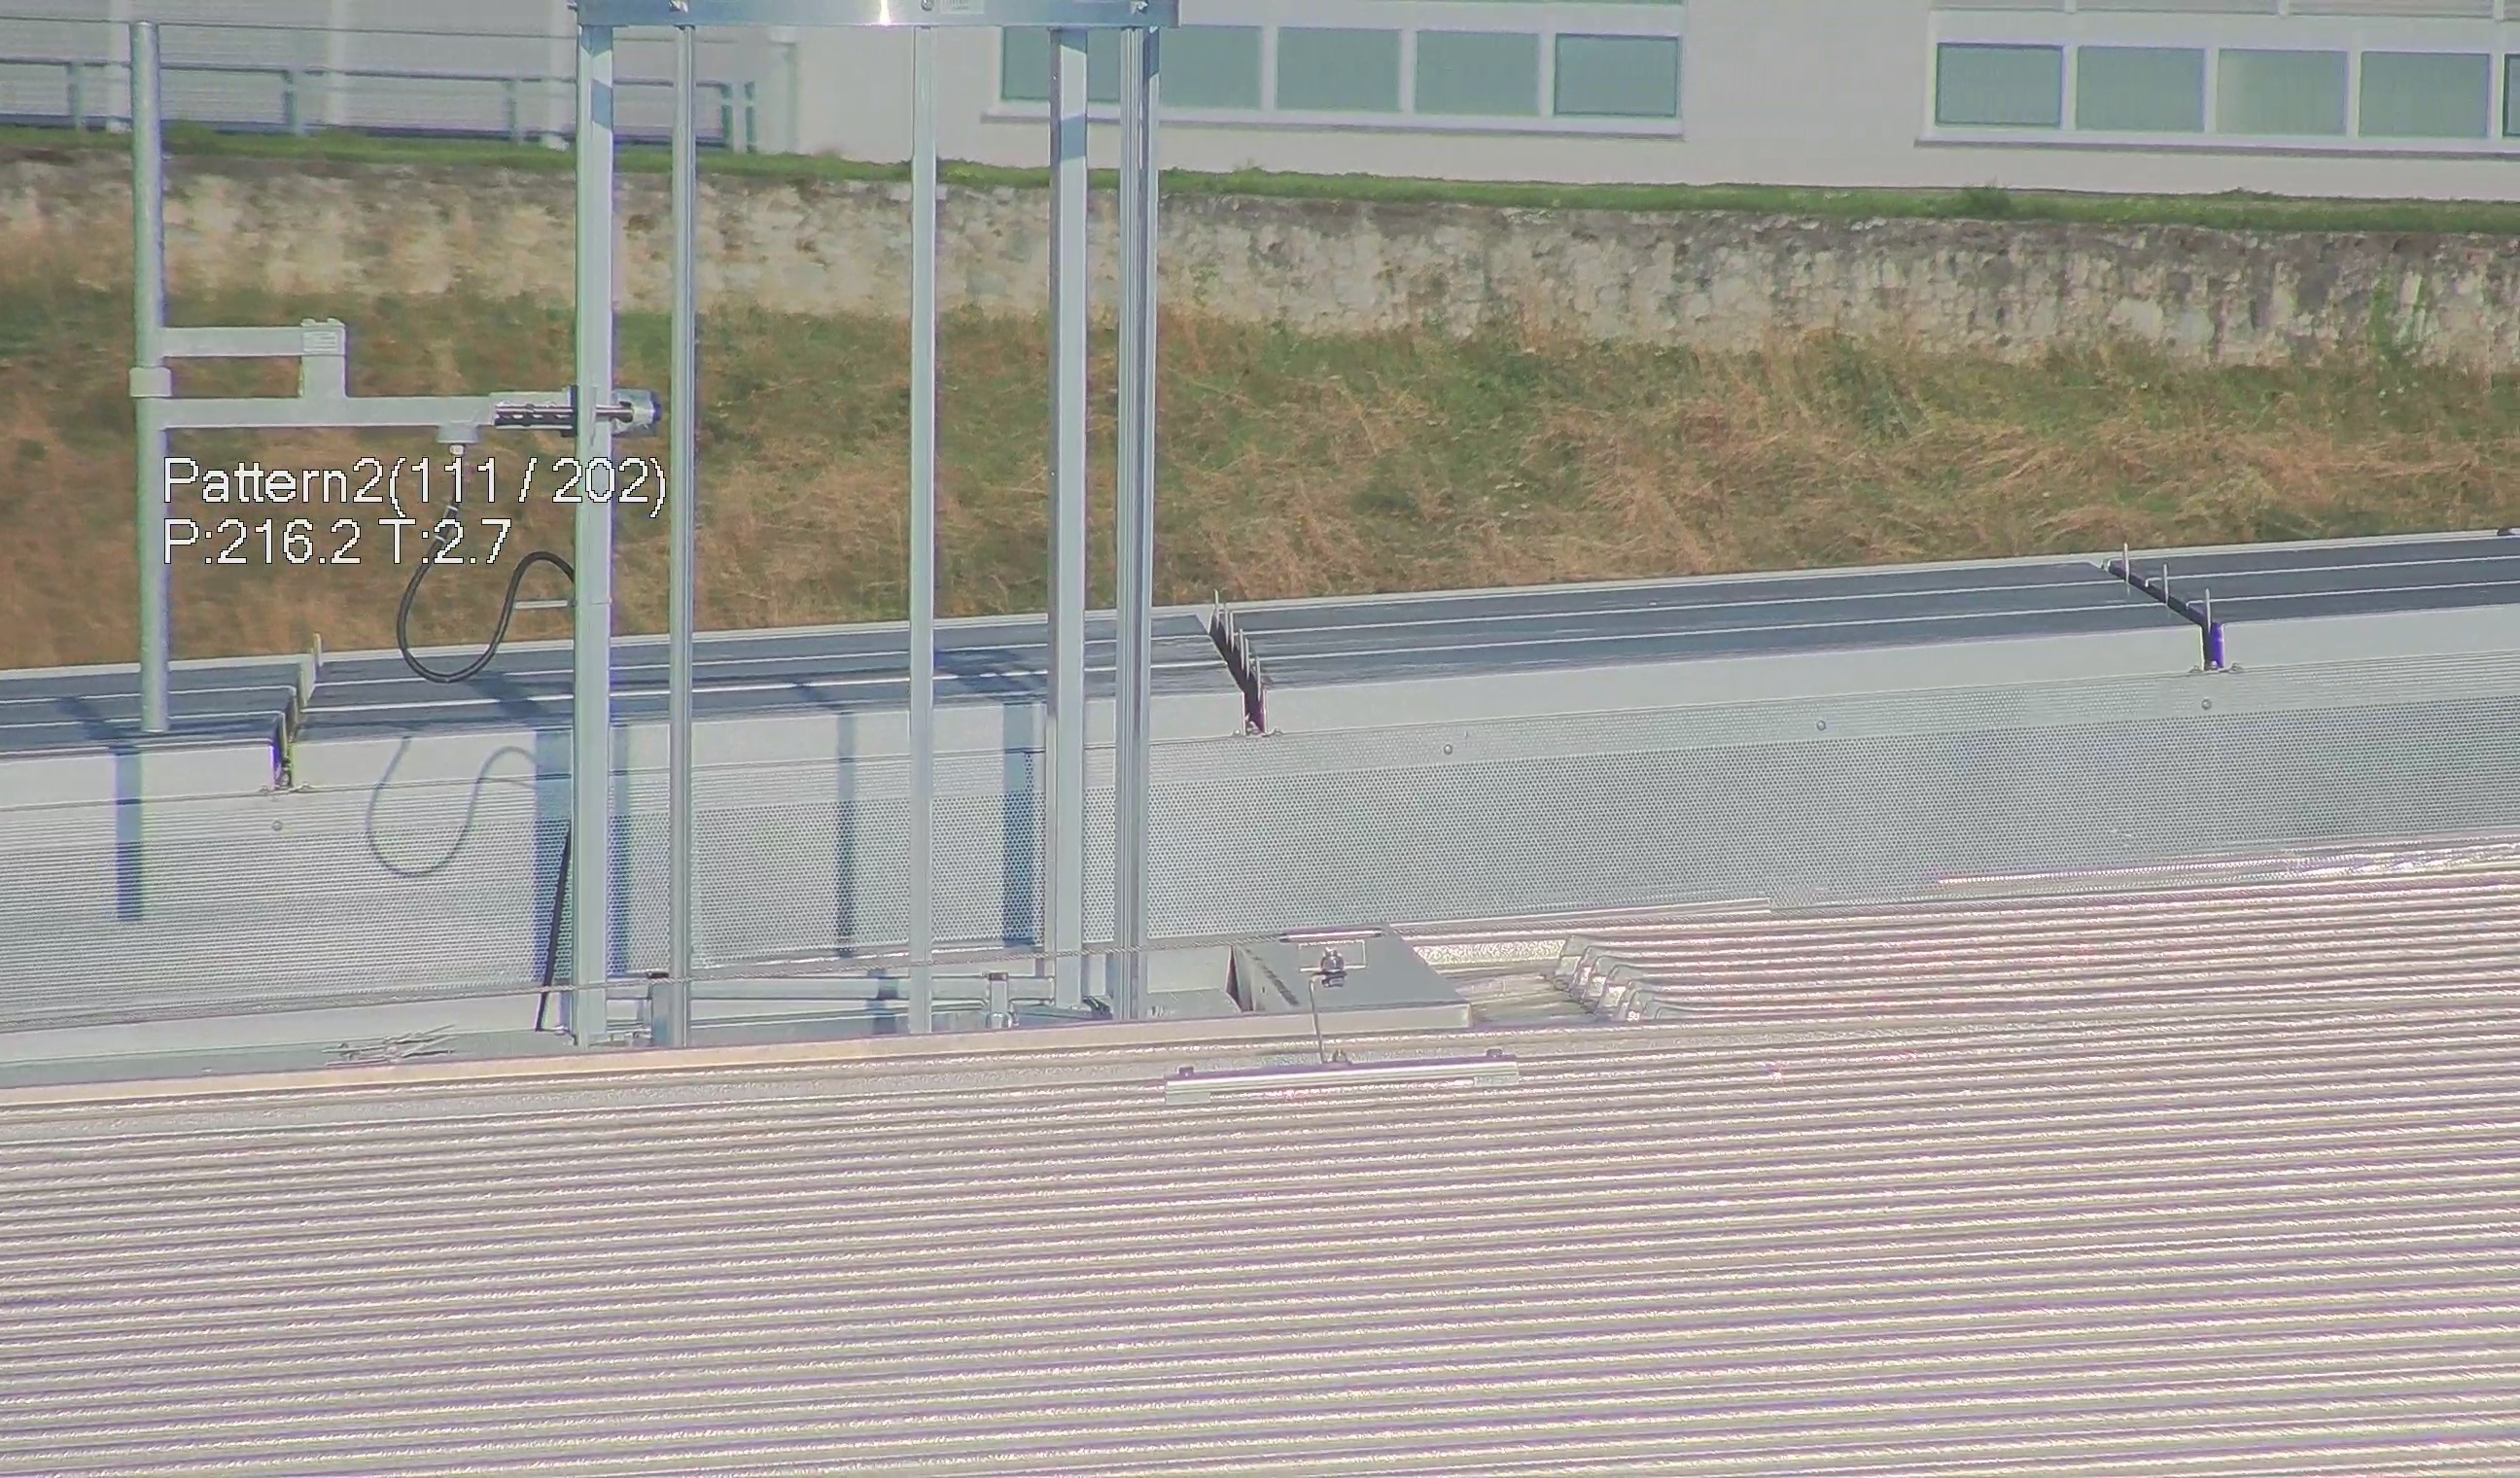Other: (1176, 584, 1289, 739)
